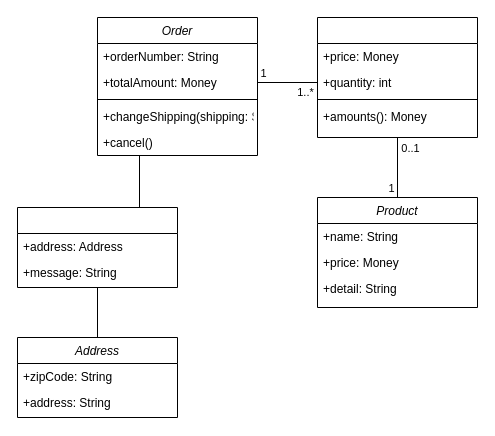
The diagram is 495 pixels wide and 436 high, and some of its shapes have lost their labels. The box of each missing label's shape, as (x1, y1, x2, y2) in pixels:
OrderLine: (316, 16, 478, 138)
ShippingInfo: (16, 206, 178, 288)
